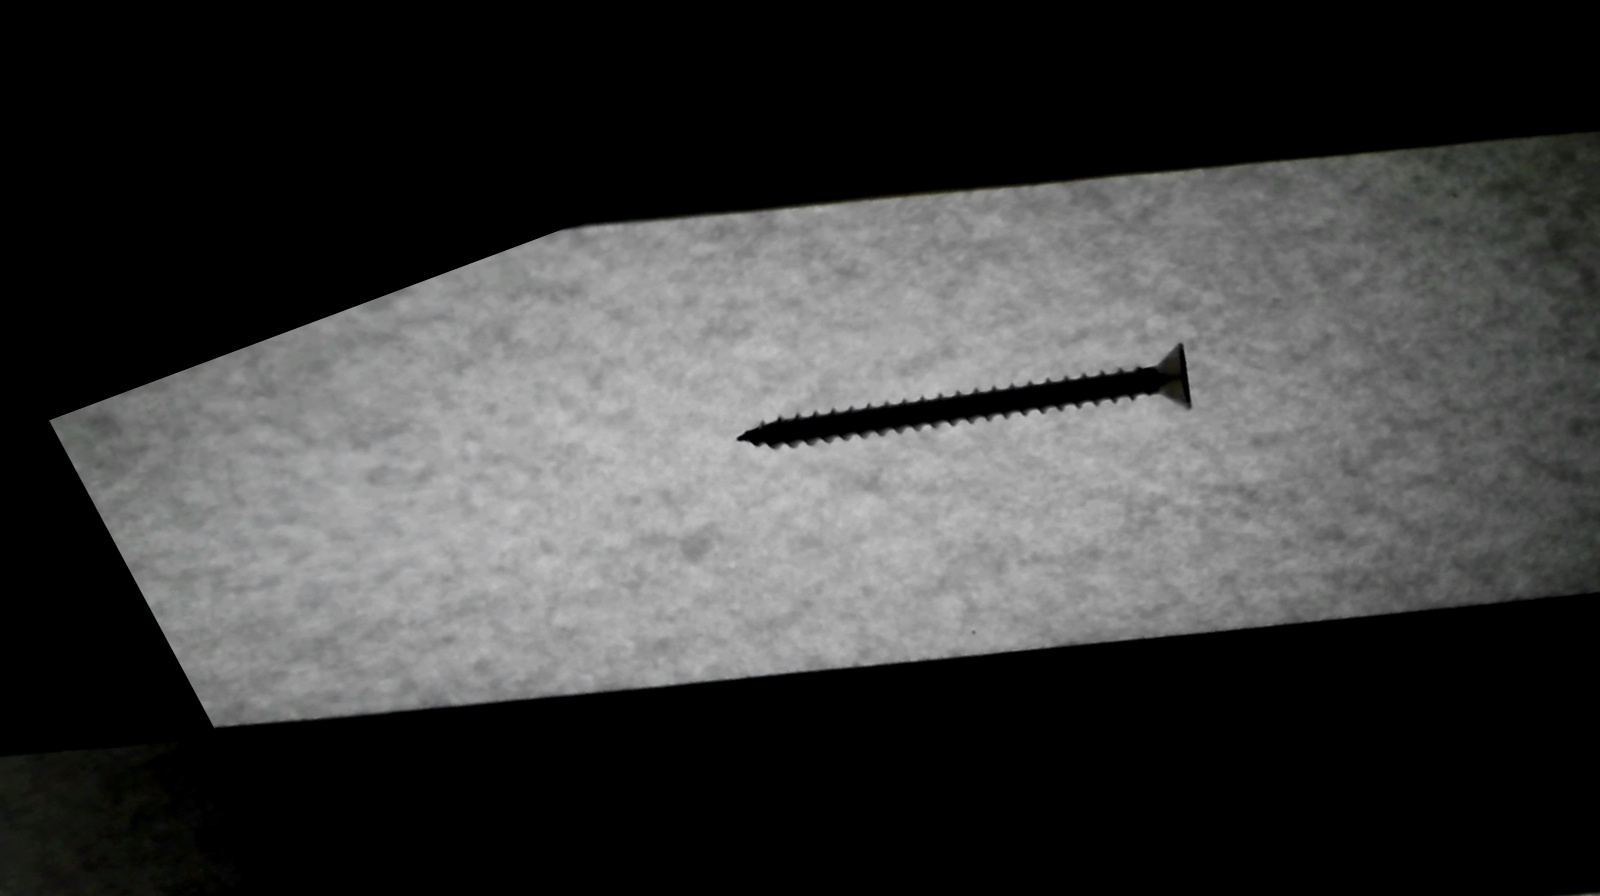S002: (711, 261, 1223, 568)
